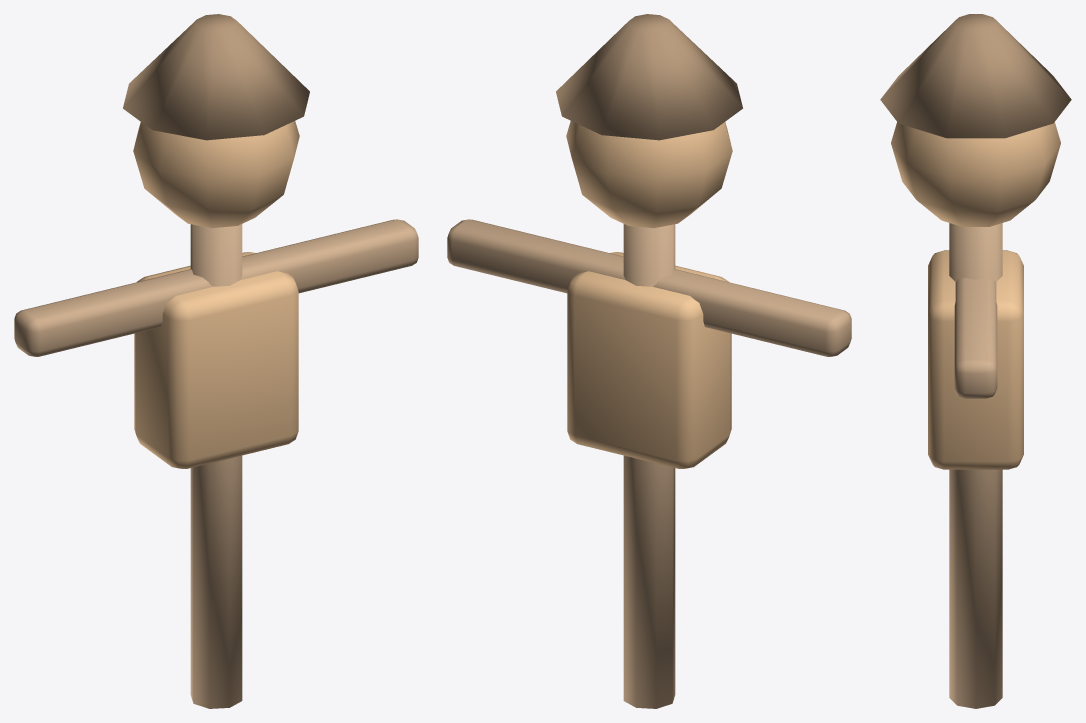
The model's file is cozy_scarecrow_A.glb.
The picture shows the model from 3 angles, left to right: view 1: azimuth 30°, elevation 25°; view 2: azimuth 150°, elevation 25°; view 3: azimuth 270°, elevation 25°; orthographic projection.
Visible parts, largest first — view 1: Torso, Pole, Arms, Hat, Head; view 2: Torso, Pole, Arms, Hat, Head; view 3: Pole, Hat, Torso, Head, Arms.
Part boxes in pixels (x1,y1,x2,y2): Torso: (134,252,298,468); Pole: (190,224,242,708); Arms: (14,219,418,356); Hat: (123,14,309,140); Head: (133,121,299,228); Torso: (567,252,731,468); Pole: (623,224,675,708); Arms: (447,219,851,356); Hat: (556,14,742,140); Head: (566,121,732,228); Pole: (949,223,1002,708); Hat: (880,14,1071,138); Torso: (928,250,1023,469); Head: (891,122,1060,226); Arms: (954,278,997,398).
Bounding box in the file's own units: 0.85 × 1.4 × 0.36.
